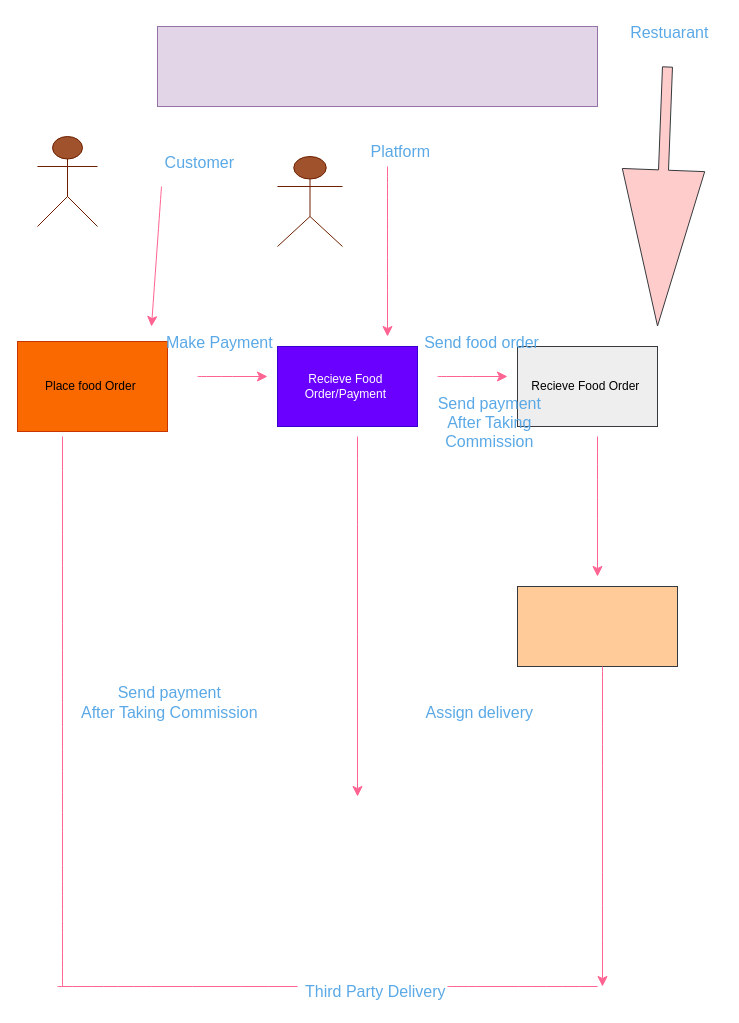
Some shapes in this 739 by 1023 pixel diagram are drawn without their labels. The shapes that lost their labels are listed below. From the top down, each one's box as (x1, y1, x2, y2) in pixels, then its label:
(156, 26, 598, 106): Online Food Delivery
(516, 586, 678, 666): Prepare And Pack Food
